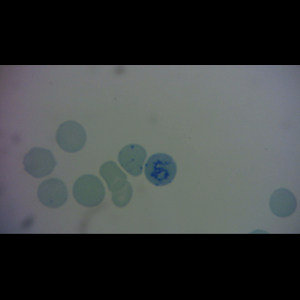aggregate reticulocyte: (143, 152, 179, 187)
erythrocyte: (21, 146, 59, 179), (72, 174, 106, 208), (268, 187, 299, 219), (99, 159, 129, 192), (110, 178, 134, 209)
punctate reticulocyte: (55, 120, 87, 154), (117, 143, 149, 177), (36, 177, 69, 209)
